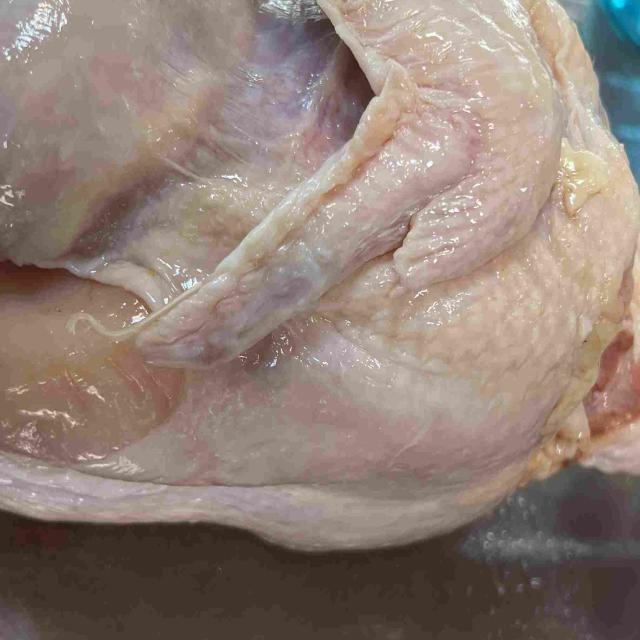wing: (129, 0, 559, 364)
